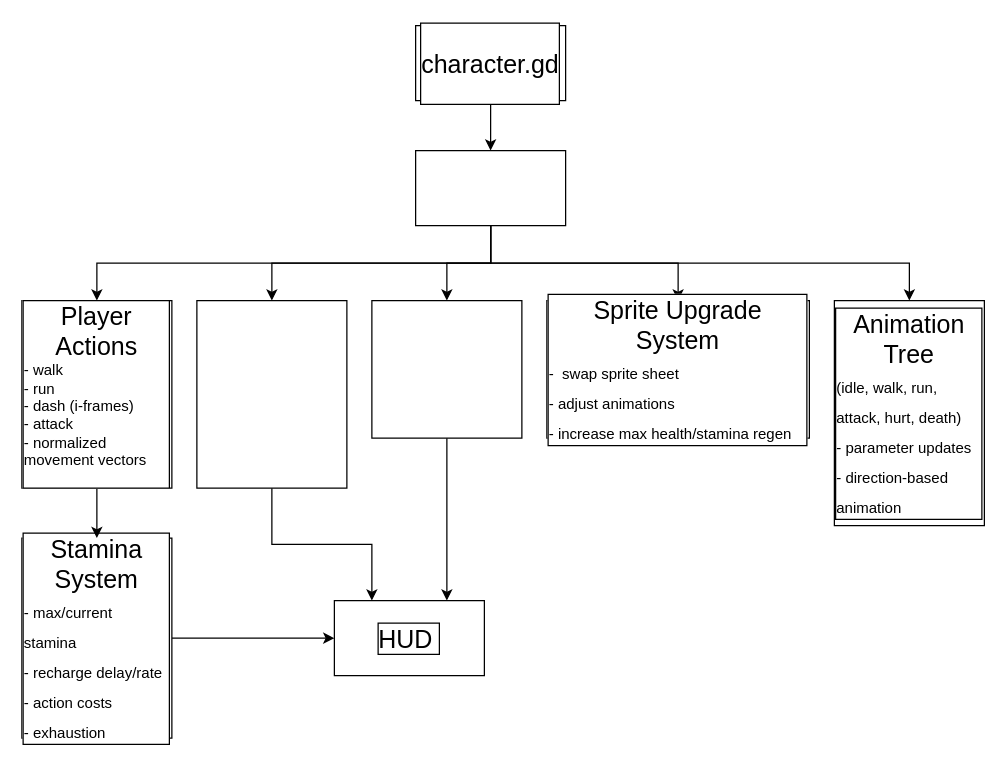
Some shapes in this 1006 by 770 pixel diagram are drawn without their labels. Each missing label, with the centre of its shape:
Health System - max/current health - damage events - death logic: (271,393)
Inventory System - potions (pickup/us) - keys (pickup/use): (446,368)
player.gd: (490,187)
